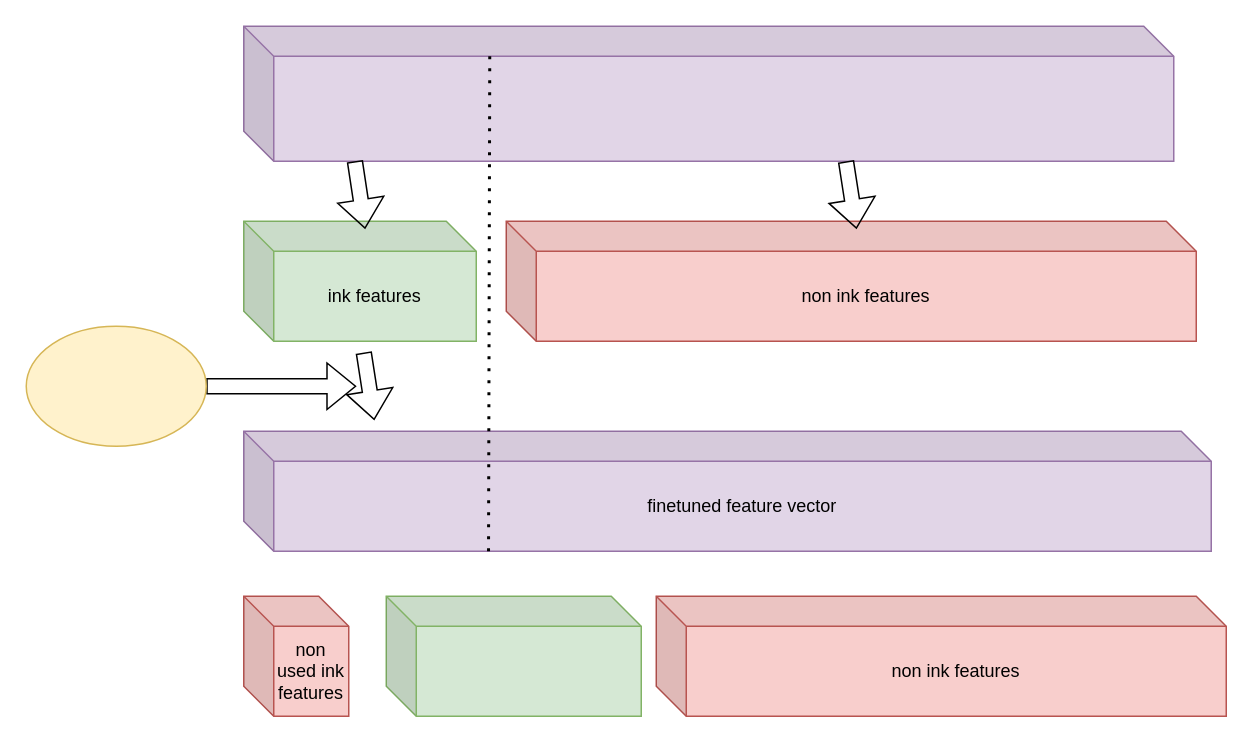
The diagram is 1253 pixels wide and 743 high, and some of its shapes have lost their labels. The shapes that lost their labels are listed below. From the top down, each one's centre as x and y in pixels, then its label:
[708,93]: pretrained feature vector
[115,385]: finetuning on kaggle ink
[513,655]: ink features+non ink features used for ink
